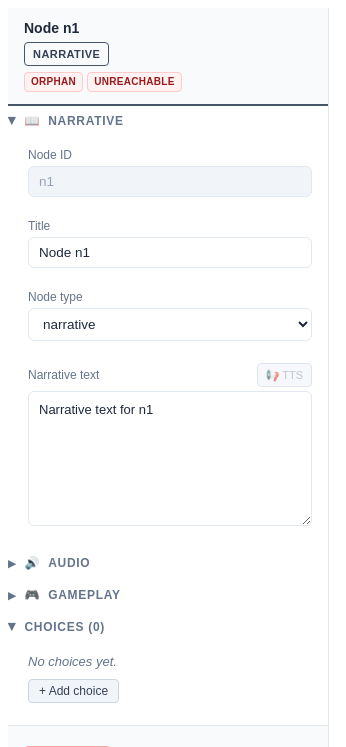
Scenario: CompanionPanel — audio section › displays entry_foley value after opening Audio section
Open the Audio section
Click the button "▶ 🔊 Audio".
click(69, 563)  # box [8,548,328,578]
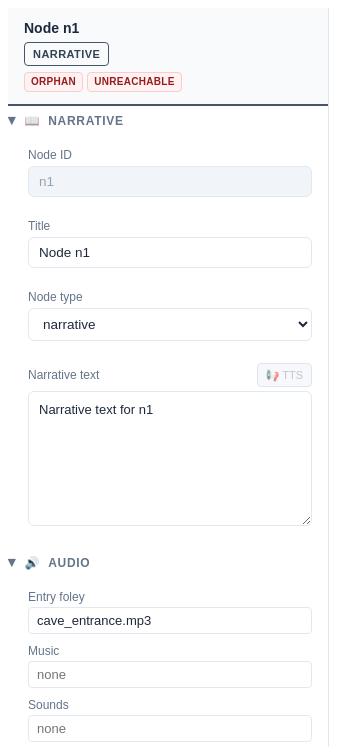
Now the dropdown labelled "Entry foley" holds "cave_entrance.mp3", box [28,607,312,634]
